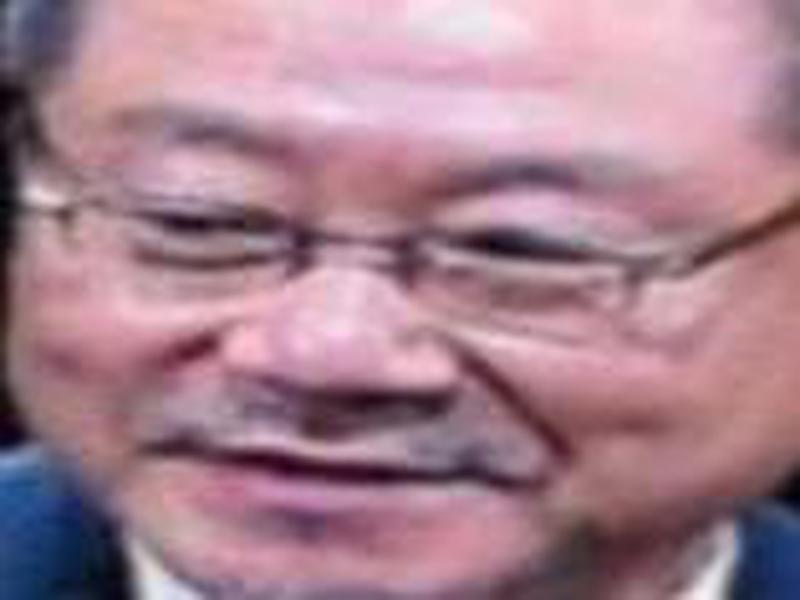without_mask: (10, 4, 800, 597)
